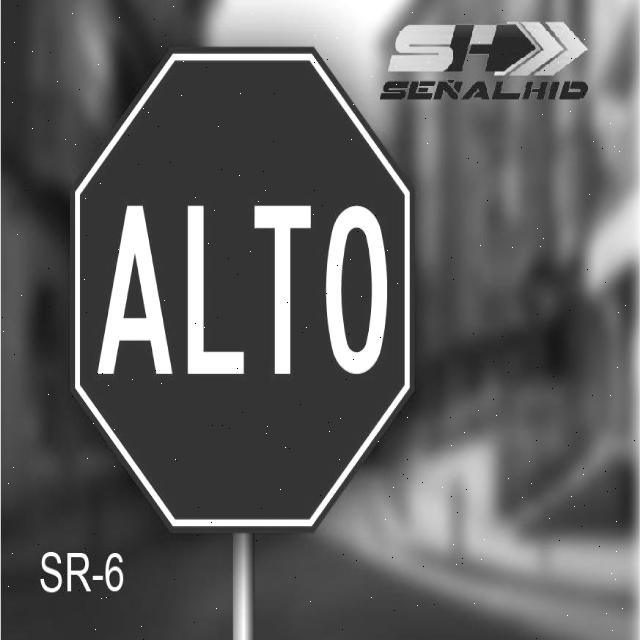Stop-sign: (64, 8, 429, 554)
